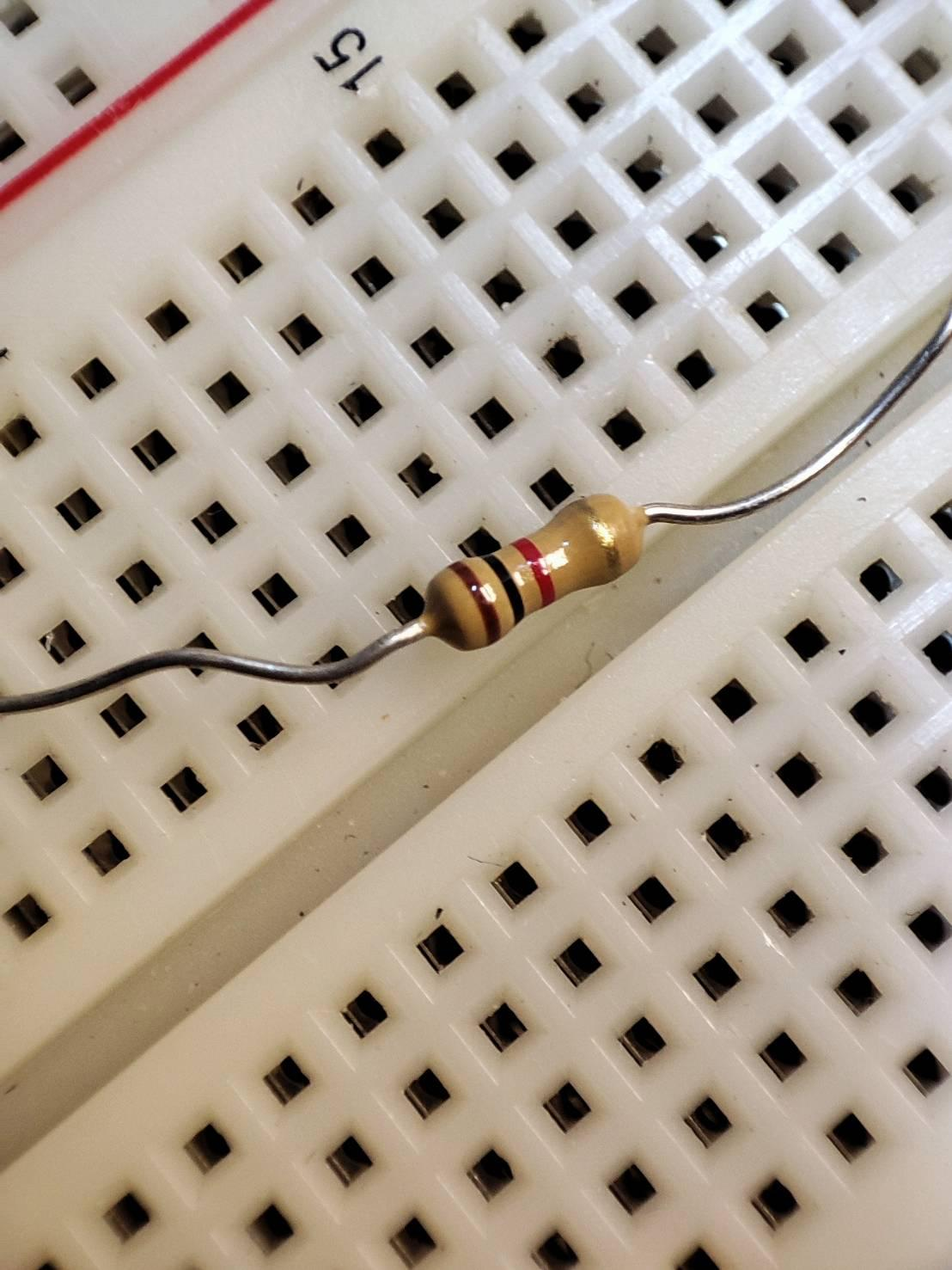resistor: (419, 492, 653, 652)
